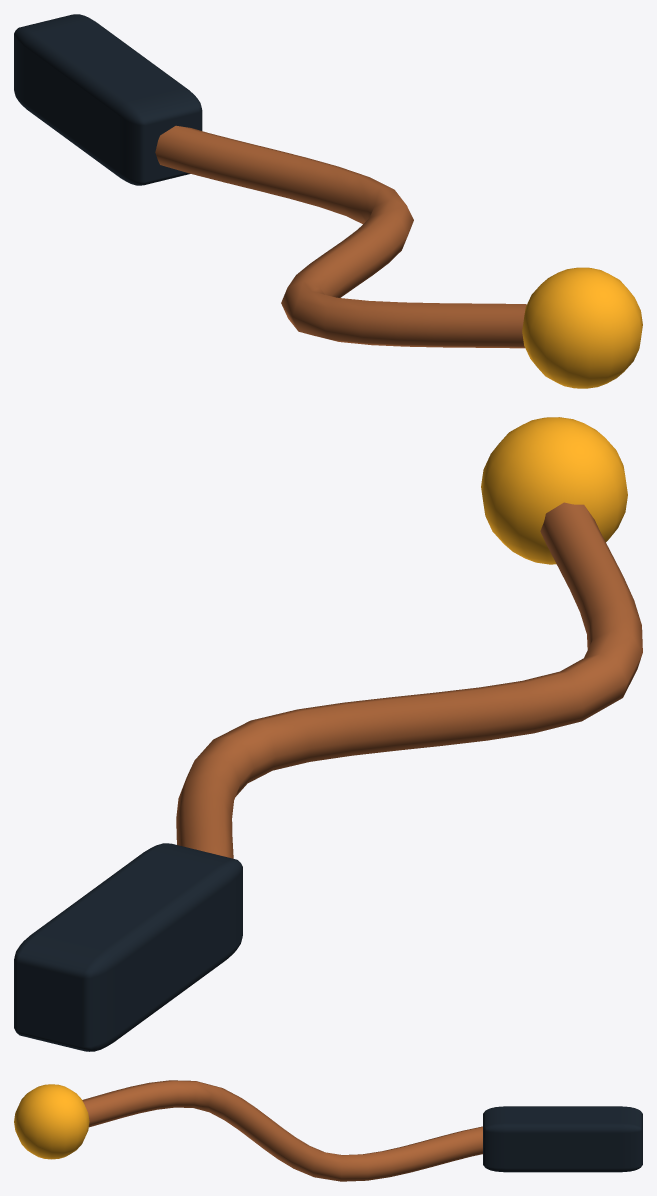
Rendered from whip-0.glb.
3 renders of one model, top to bottom at view 1: azimuth 30°, elevation 25°; view 2: azimuth 150°, elevation 25°; view 3: azimuth 270°, elevation 25°, orthographic. The views are drawn at different scales.
Bounding box in the file's own units: 0.3671 × 0.235 × 1.42.
